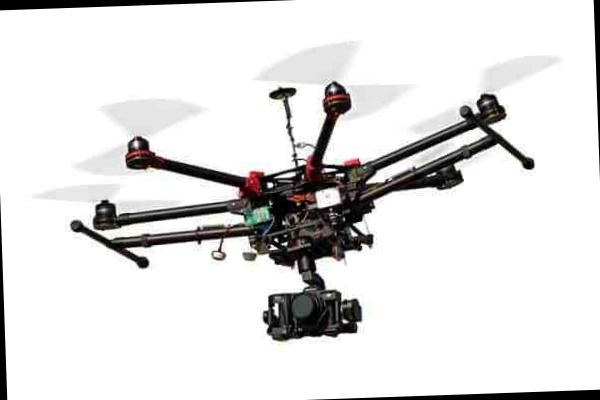drone: (37, 49, 586, 294)
